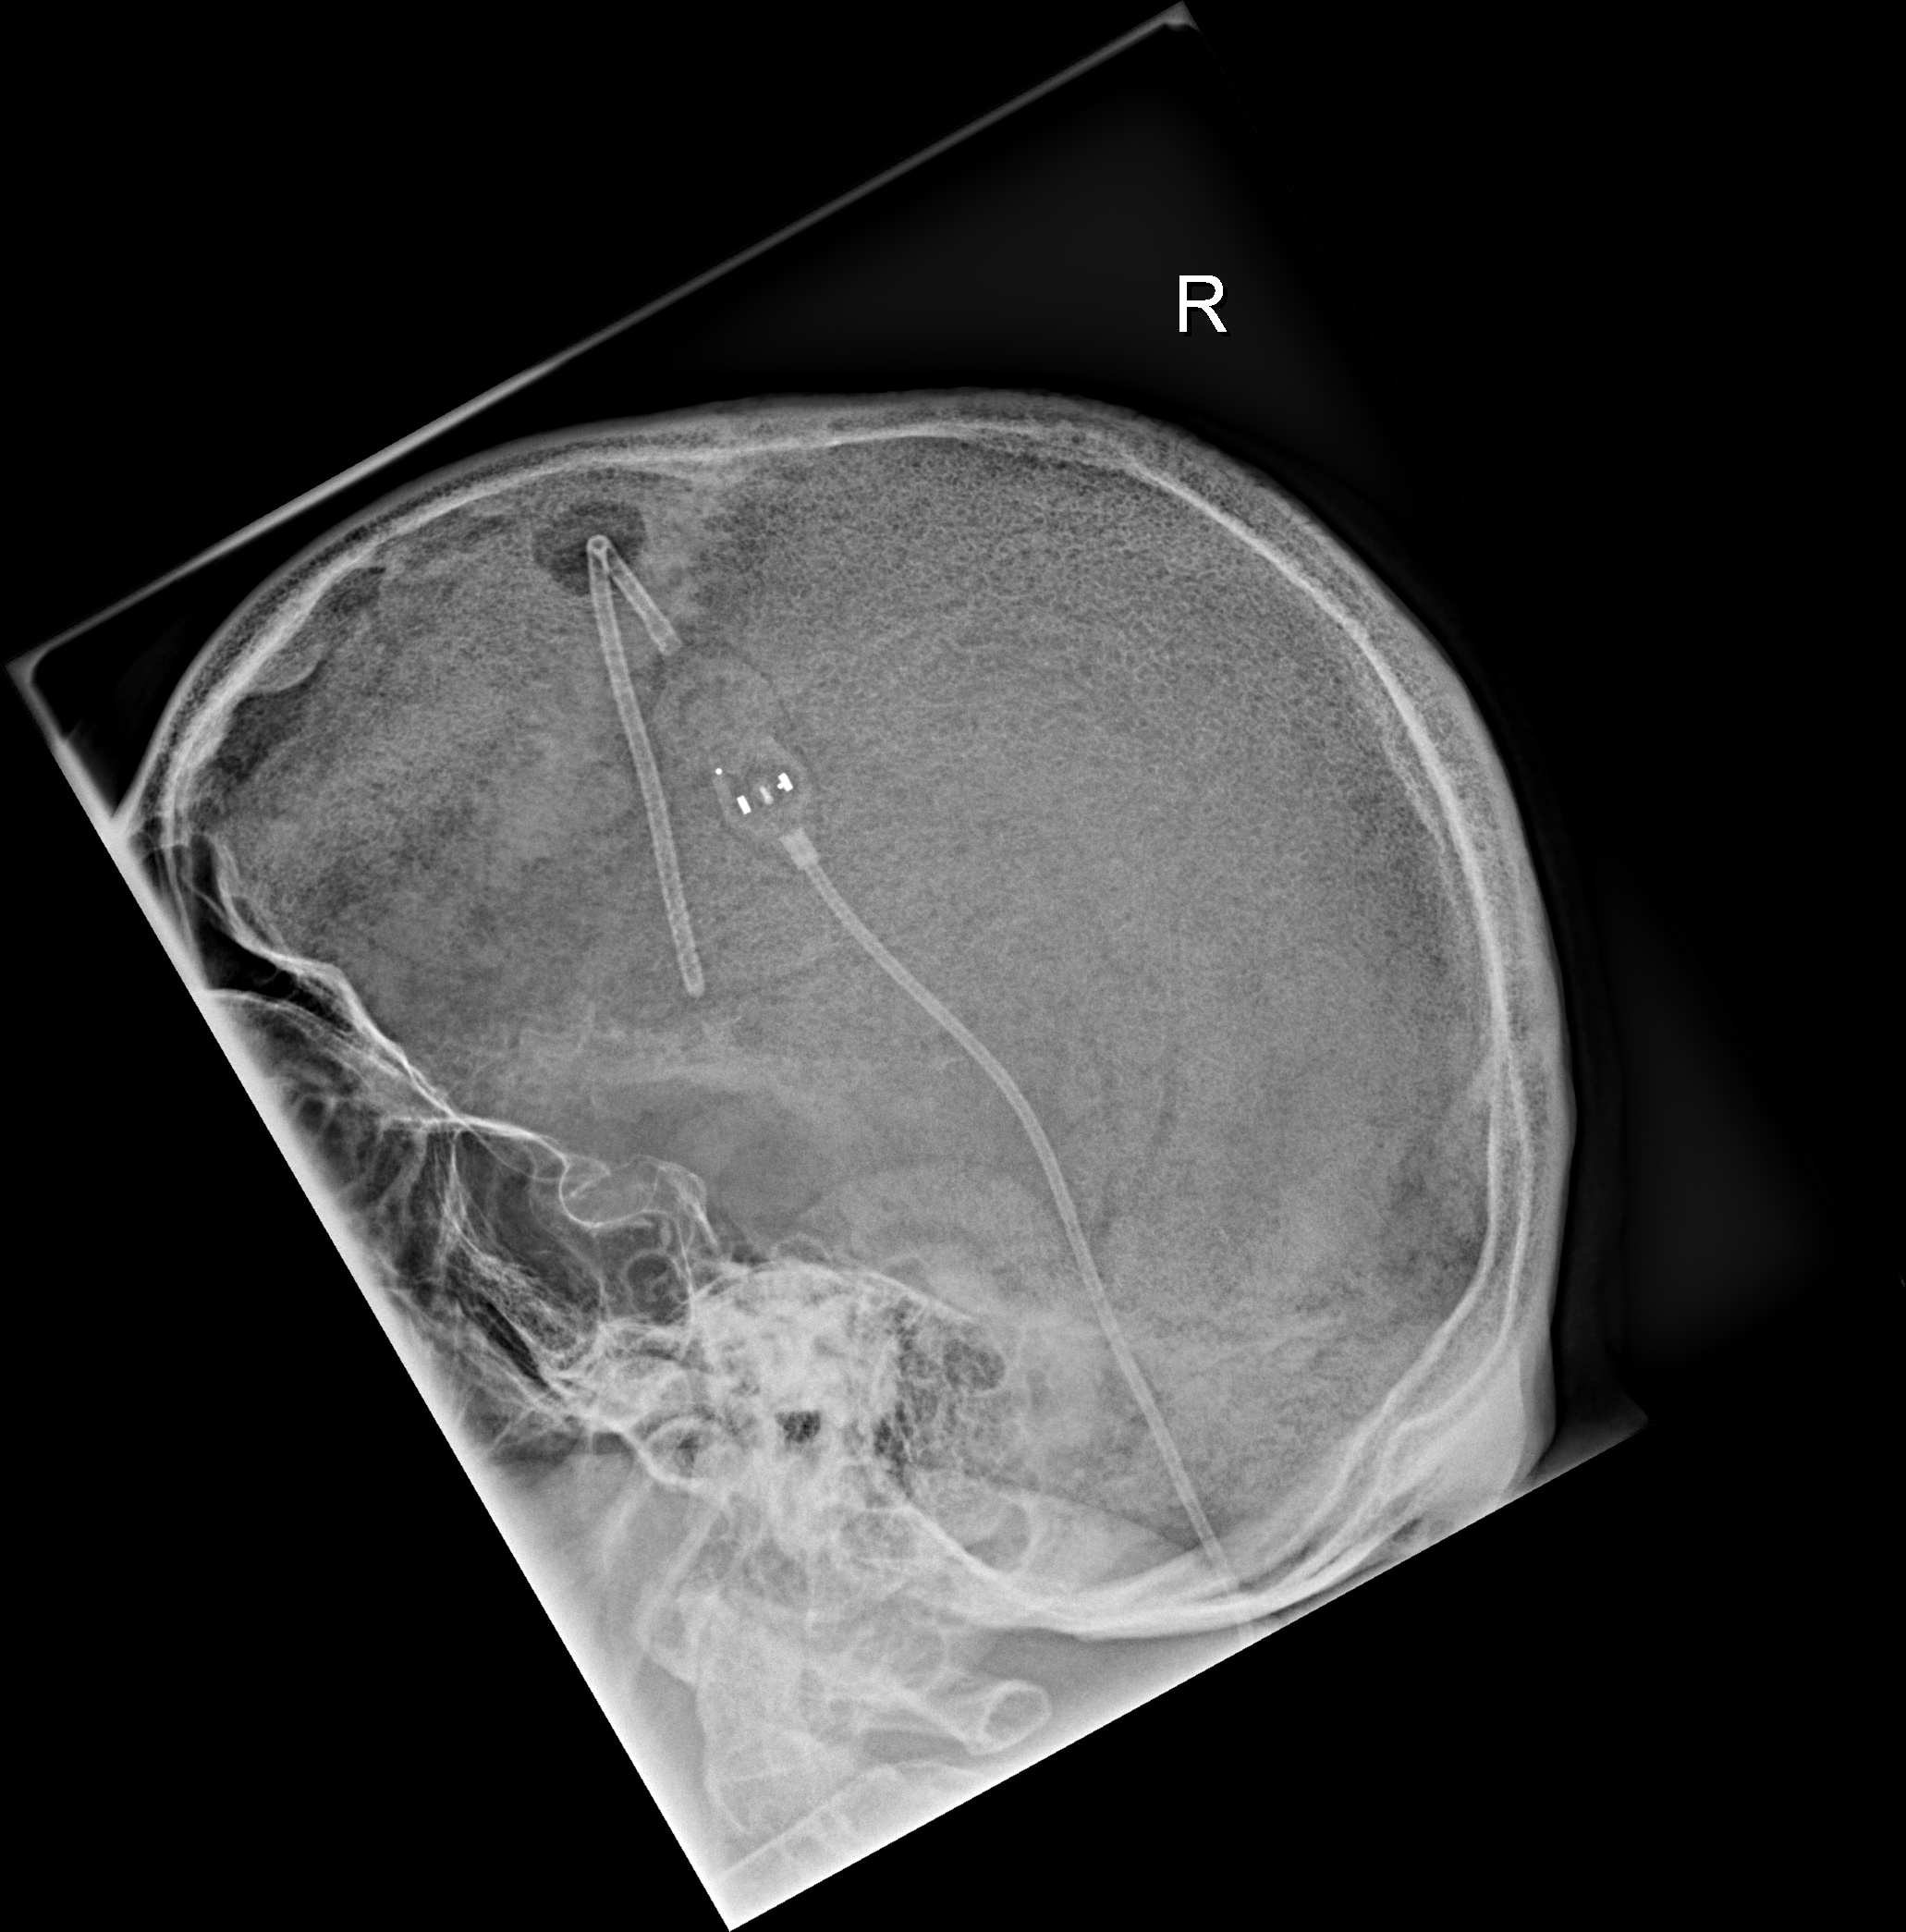Codman Certas: (707, 735, 819, 855)
